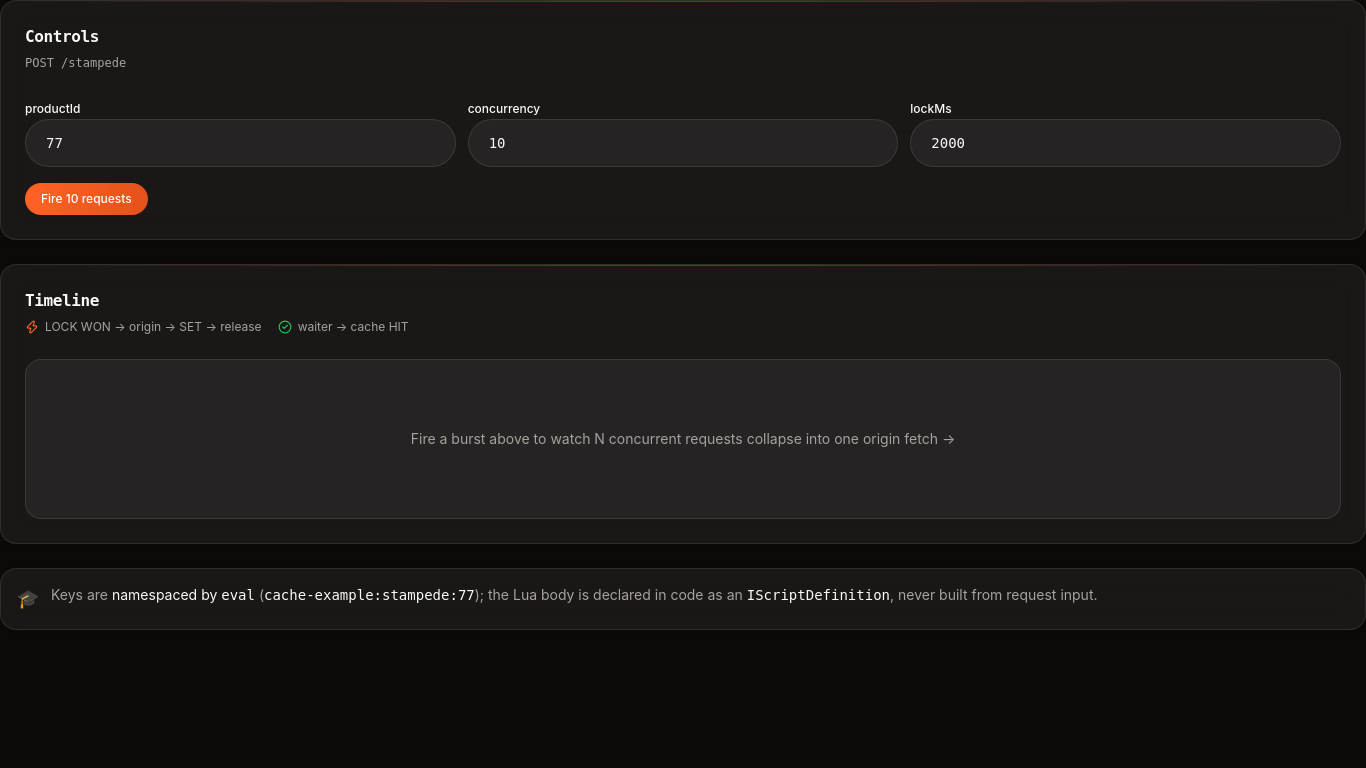
StampedeView › uses concurrency as the reduction when no origin fetch occurred
Click the button "Fire 10 requests" at (86, 199), box [25,183,148,215]
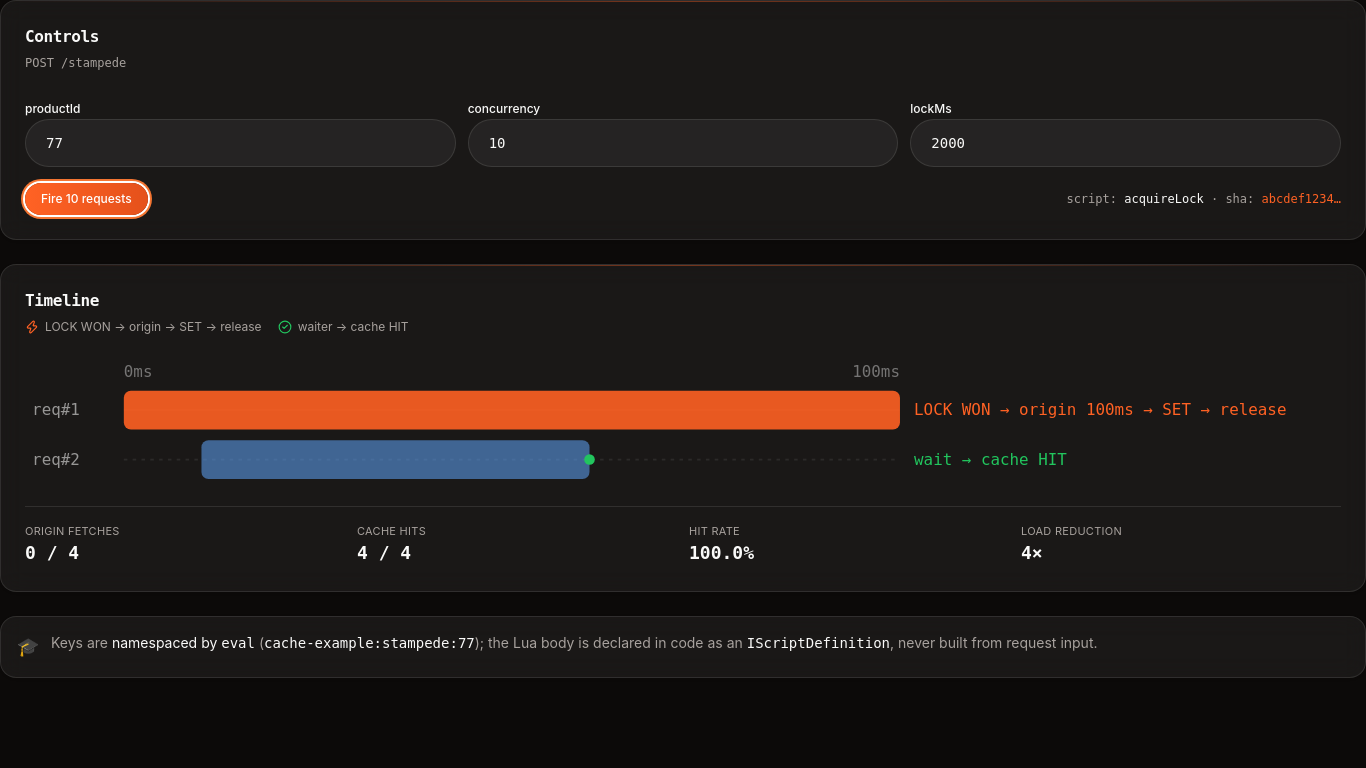
Expected: the text "4×" is shown, [1021,542,1043,563]
